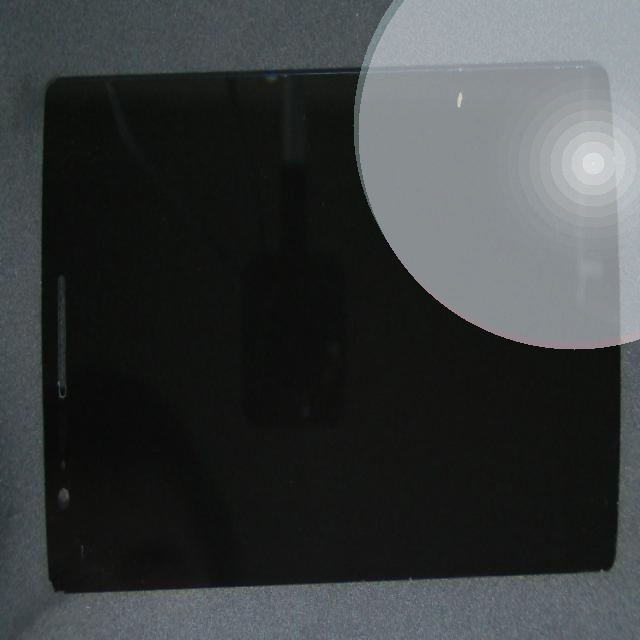stain: (221, 73, 640, 219)
